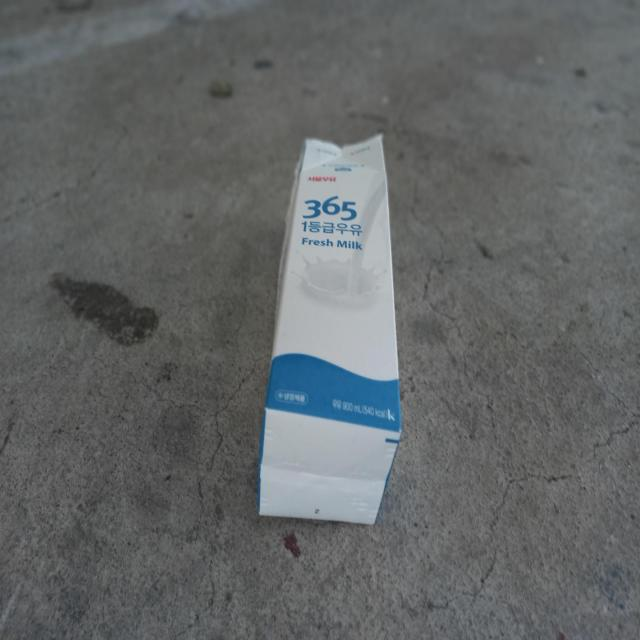paperpack: (258, 135, 402, 525)
